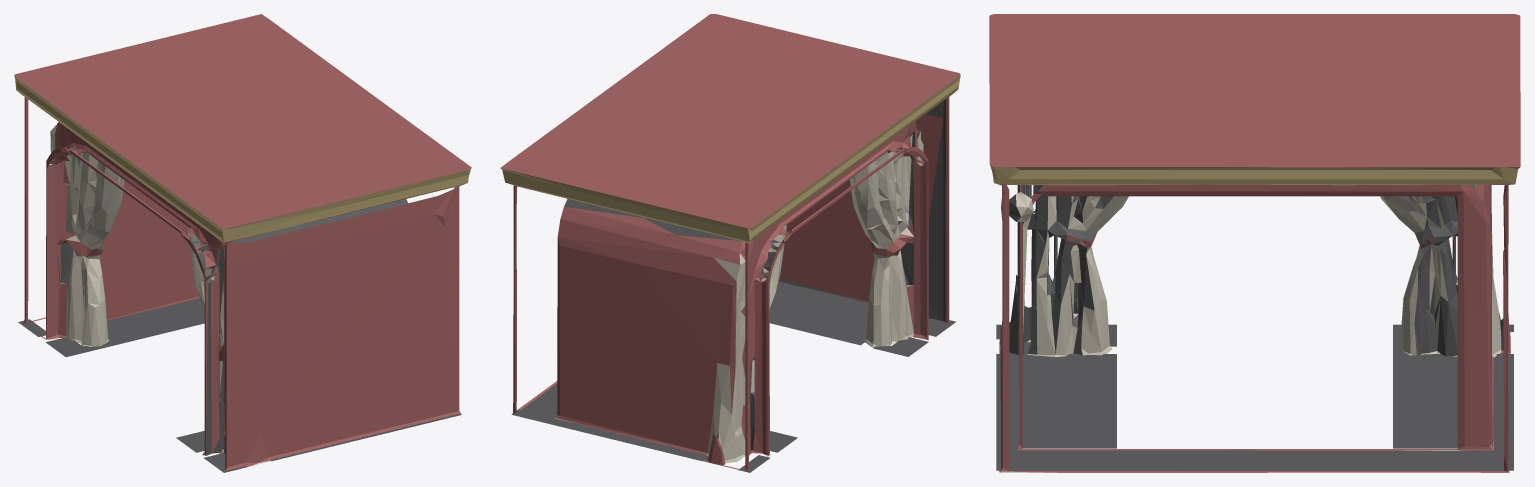
File: etape-1.glb
3 views of the same model, side by side, from view 1: azimuth 30°, elevation 25°; view 2: azimuth 150°, elevation 25°; view 3: azimuth 270°, elevation 25° (orthographic). The views are drawn at different scales.
Visible parts, largest first — view 1: geometry_0; view 2: geometry_0; view 3: geometry_0.
Boxes of the visible parts, x1,y1,x2,y2 form: geometry_0: (14,14,471,472); geometry_0: (500,14,960,472); geometry_0: (989,14,1520,472).
Bounding box in the file's own units: 0.6589 × 0.6221 × 0.966.
